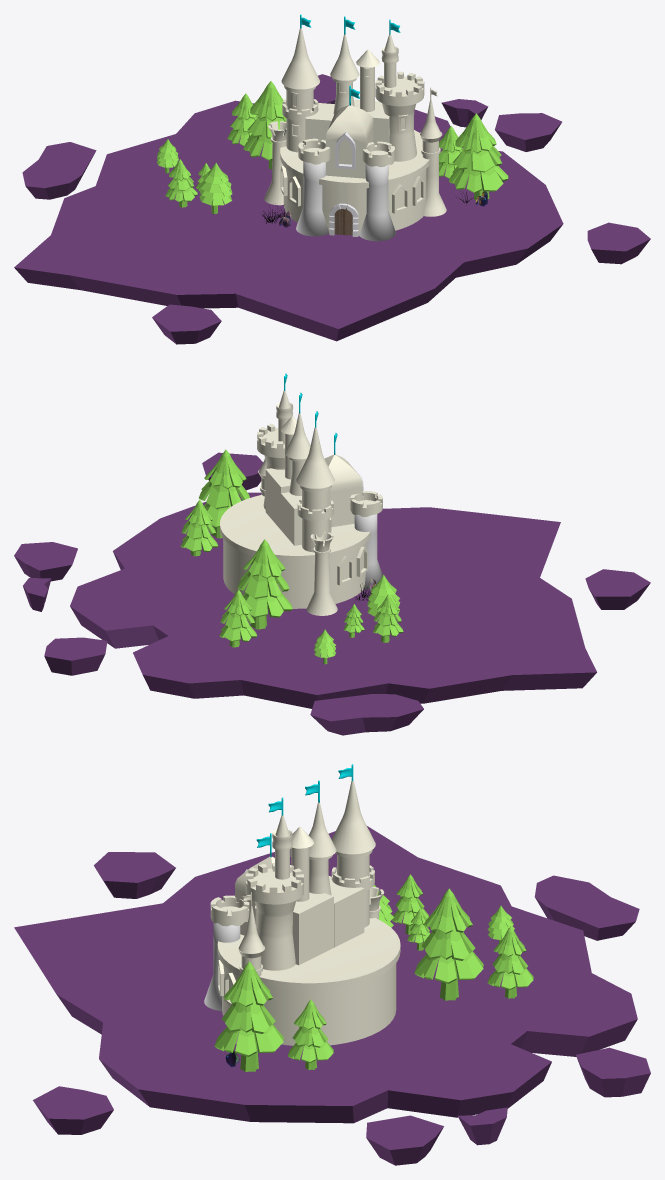
File: chateau.glb
The picture shows the model from 3 angles, top to bottom: view 1: azimuth 30°, elevation 25°; view 2: azimuth 150°, elevation 25°; view 3: azimuth 270°, elevation 25°; orthographic projection. The views are drawn at different scales.
Parts seen in each view (by area): view 1: Plane, Cube, Цилиндр.001, Cylinder; view 2: Plane, Cube, Цилиндр.001, Cylinder; view 3: Plane, Cube, Цилиндр.001, Cylinder.
Boxes of the visible parts, bbox=[...] form: Plane: bbox=[14, 74, 650, 344]; Cube: bbox=[264, 28, 446, 236]; Цилиндр.001: bbox=[157, 81, 508, 213]; Cylinder: bbox=[296, 161, 395, 241]; Plane: bbox=[14, 452, 650, 735]; Cube: bbox=[220, 390, 382, 615]; Цилиндр.001: bbox=[180, 449, 403, 664]; Cylinder: bbox=[354, 514, 382, 589]; Plane: bbox=[14, 826, 650, 1165]; Cube: bbox=[210, 781, 400, 1045]; Цилиндр.001: bbox=[214, 874, 533, 1071]; Cylinder: bbox=[204, 923, 240, 1010].
Size of the model in its own units: 33.07 by 11.65 by 27.11.
Materials: 17 (11 with a texture image).
